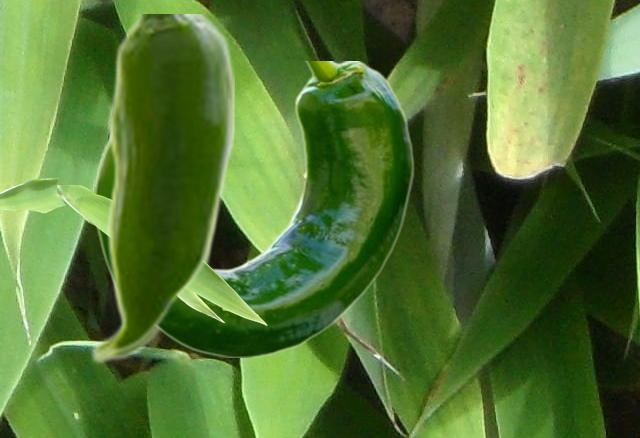green_chili: (93, 61, 414, 356), (88, 14, 233, 358), (89, 47, 232, 364)
